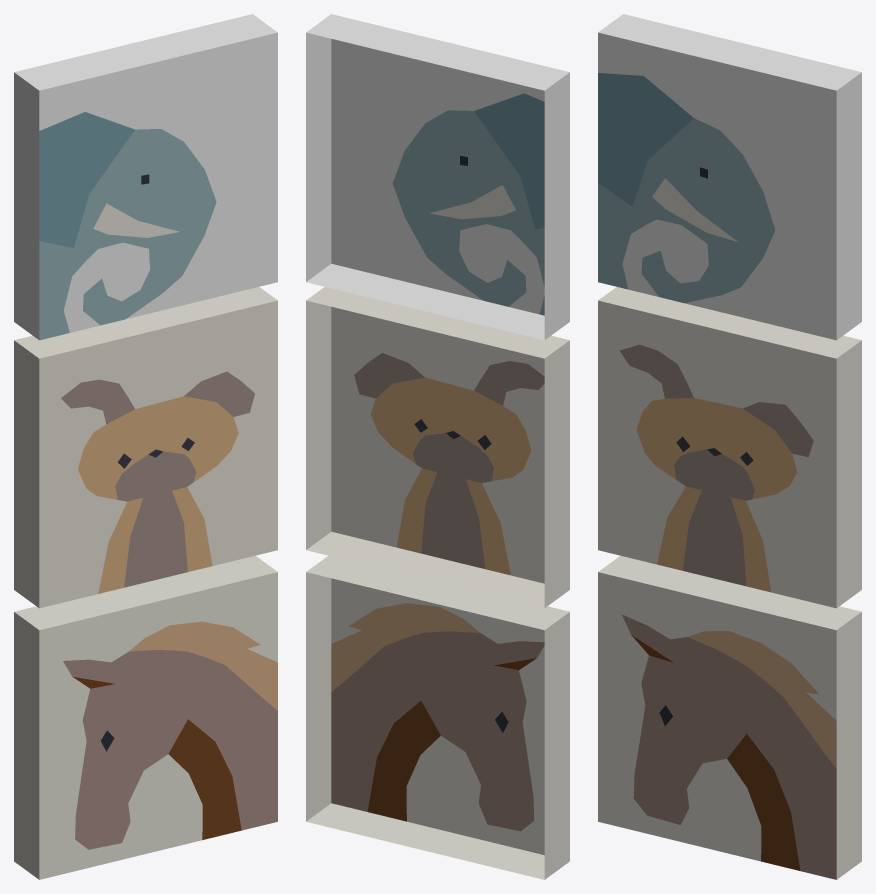
Rendered from SO_animals.fbx.
The picture shows the model from 3 angles, left to right: view 1: azimuth 30°, elevation 25°; view 2: azimuth 150°, elevation 25°; view 3: azimuth 330°, elevation 25°; orthographic projection.
Parts seen in each view (by area): view 1: animals2; view 2: animals2; view 3: animals2.
Boxes of the visible parts, x1,y1,x2,y2 form: animals2: (14,14,277,879); animals2: (306,14,569,879); animals2: (598,14,861,879).
Bounding box in the file's own units: 42.2 × 133 × 7.76.
